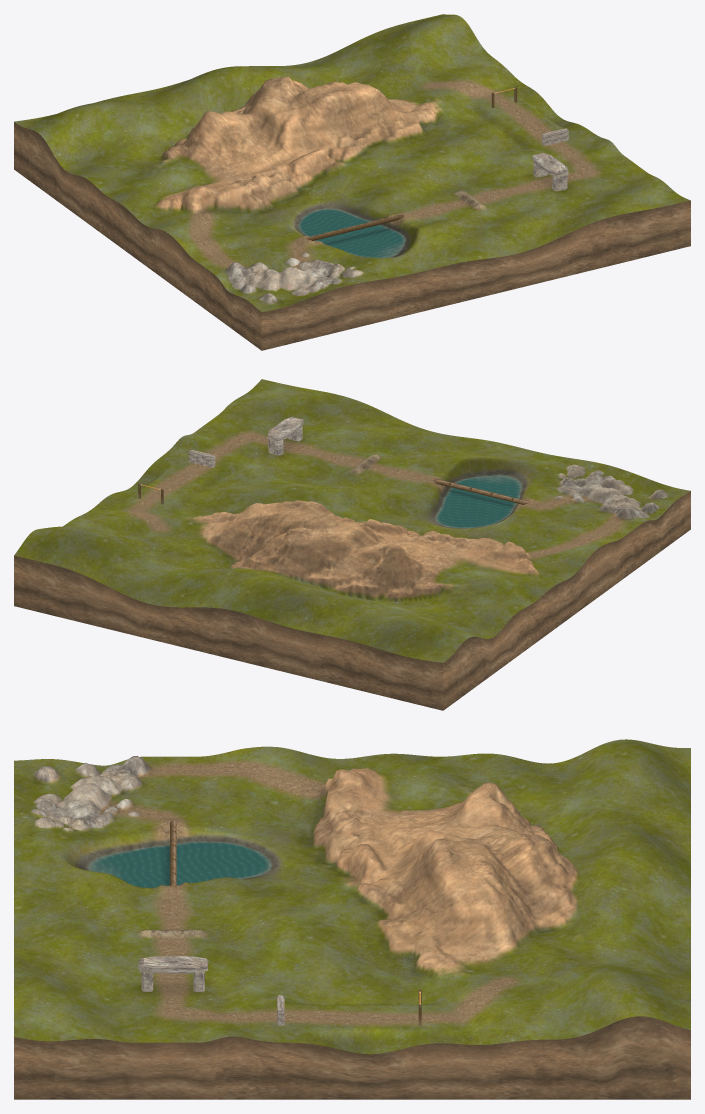
File: ridge.glb
The picture shows the model from 3 angles, top to bottom: view 1: azimuth 30°, elevation 25°; view 2: azimuth 150°, elevation 25°; view 3: azimuth 270°, elevation 25°; orthographic projection. The views are drawn at different scales.
Bounding box in the file's own units: 0.68 × 0.1313 × 0.68.
1 material, 1 textured.
